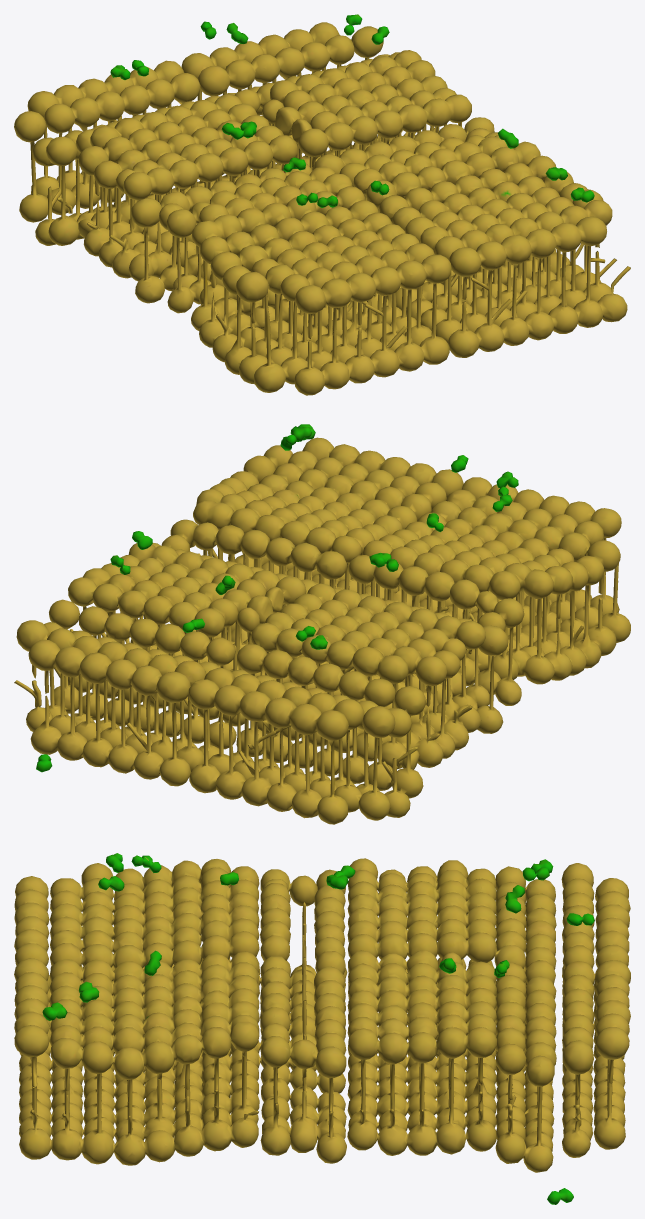
The model's file is Passive Transport Simple Diffusion.glb.
3 views of the same model, one above another, from view 1: azimuth 30°, elevation 25°; view 2: azimuth 150°, elevation 25°; view 3: azimuth 270°, elevation 25° (orthographic). The views are drawn at different scales.
Visible parts, largest first — view 1: tripo_node_cccf3c37-43b0-4061-b80d-35e29f705d79; view 2: tripo_node_cccf3c37-43b0-4061-b80d-35e29f705d79; view 3: tripo_node_cccf3c37-43b0-4061-b80d-35e29f705d79.
Boxes of the visible parts, x1,y1,x2,y2 form: tripo_node_cccf3c37-43b0-4061-b80d-35e29f705d79: [14, 14, 630, 395]; tripo_node_cccf3c37-43b0-4061-b80d-35e29f705d79: [14, 424, 630, 824]; tripo_node_cccf3c37-43b0-4061-b80d-35e29f705d79: [14, 853, 630, 1204].
Bounding box in the file's own units: 0.752 × 0.4159 × 1.
1 material, 1 textured.
